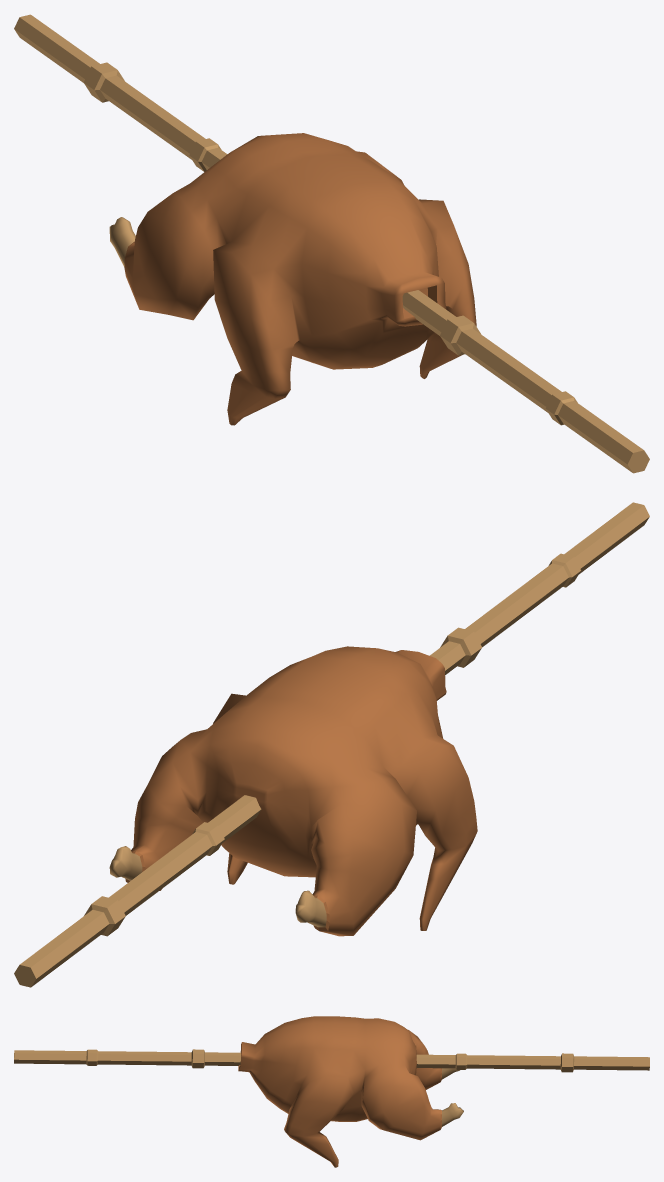
File: bbq.fbx
The picture shows the model from 3 angles, top to bottom: view 1: azimuth 30°, elevation 25°; view 2: azimuth 150°, elevation 25°; view 3: azimuth 270°, elevation 25°; orthographic projection. The views are drawn at different scales.
Visible parts, largest first — view 1: chichen, bambo; view 2: chichen, bambo; view 3: chichen, bambo.
Part boxes in pixels (x1,y1,x2,y2): chichen: [109, 133, 476, 425]; bambo: [14, 14, 649, 473]; chichen: [109, 646, 477, 936]; bambo: [14, 502, 649, 987]; chichen: [238, 1016, 463, 1167]; bambo: [14, 1049, 649, 1072].
Size of the model in its own units: 3.26 by 2.96 by 14.17.
